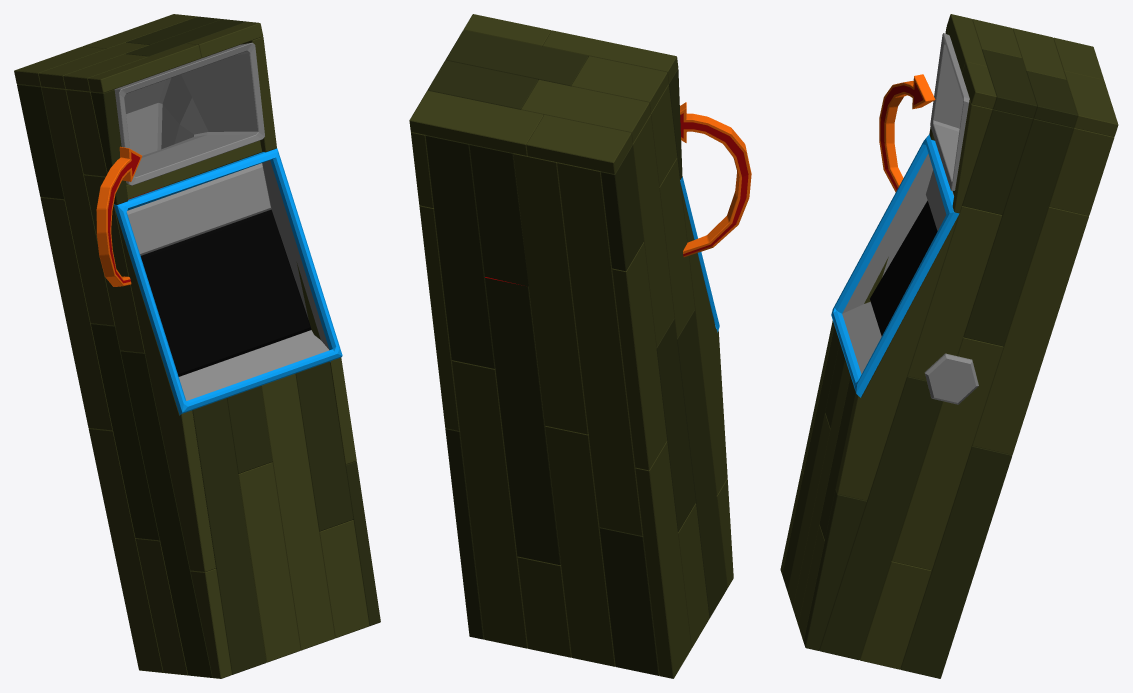
File: Combined Mesh (root_ scene) 2_0.glb
3 views of the same model, side by side, from view 1: azimuth 30°, elevation 25°; view 2: azimuth 150°, elevation 25°; view 3: azimuth 270°, elevation 25° (orthographic). The views are drawn at different scales.
Visible parts, largest first — view 1: Combined Mesh (root_ scene) 2_0; view 2: Combined Mesh (root_ scene) 2_0; view 3: Combined Mesh (root_ scene) 2_0.
Boxes of the visible parts, x1=… form: Combined Mesh (root_ scene) 2_0: x1=14, y1=14, x2=380, y2=678; Combined Mesh (root_ scene) 2_0: x1=409, y1=14, x2=751, y2=678; Combined Mesh (root_ scene) 2_0: x1=780, y1=14, x2=1118, y2=678.
Bounding box in the file's own units: 0.975 × 2.26 × 1.19.
Materials: 2 (2 with a texture image).
